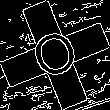O_S: (25, 23, 85, 87)
